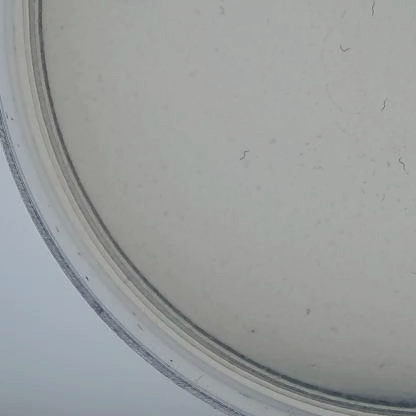worm: (392, 154, 409, 175), (235, 148, 253, 165), (376, 96, 392, 115), (150, 21, 164, 40), (215, 2, 231, 18), (368, 0, 382, 18), (335, 42, 353, 55)
